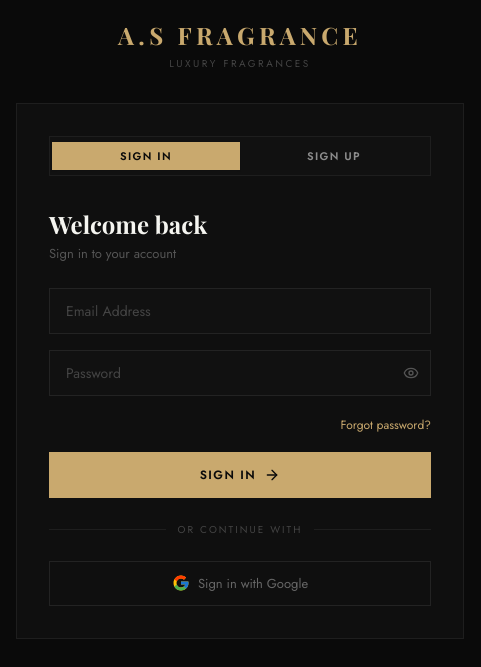
Test: Sign-in page – form validation › shows "Minimum 6 characters" for short password
Type "user@test.com" into the field with placeholder "Email Address" at (240, 310), box [49,288,431,334]
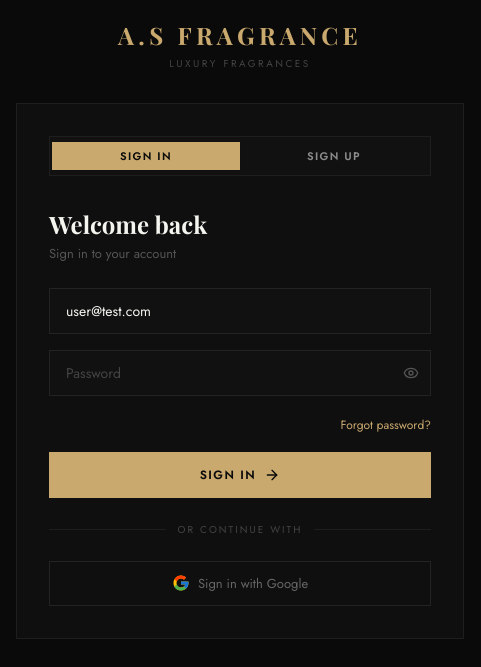
Type "abc" into the password field with placeholder "Password" at (240, 372), box [49,350,431,396]
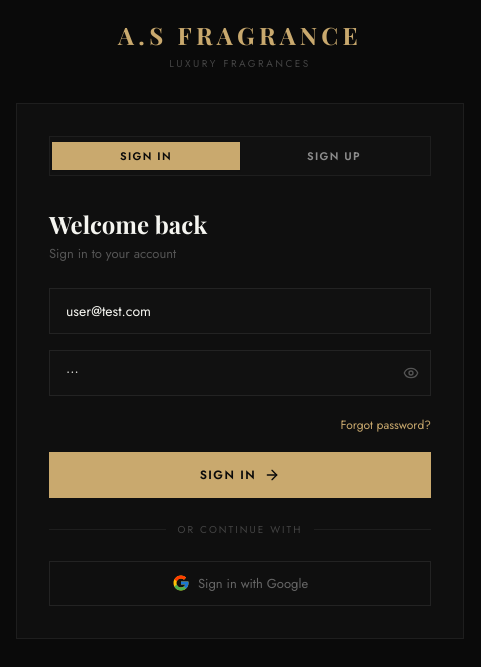
Submit the form with placeholder "Email Address", box [49,288,431,498]
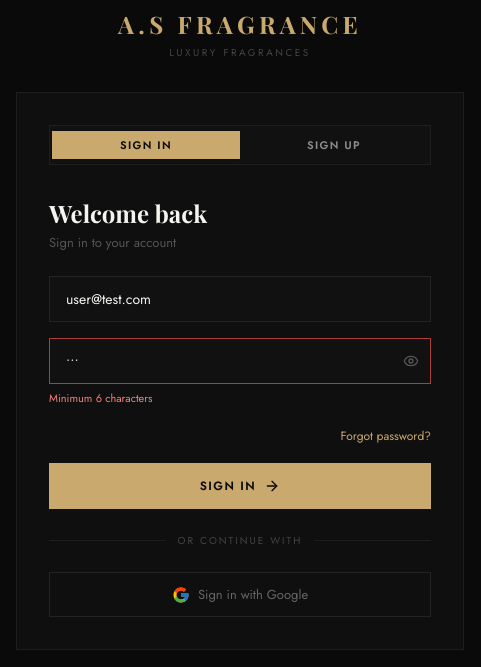
Check: the text "Minimum 6 characters" is shown, box [49,390,152,406]
